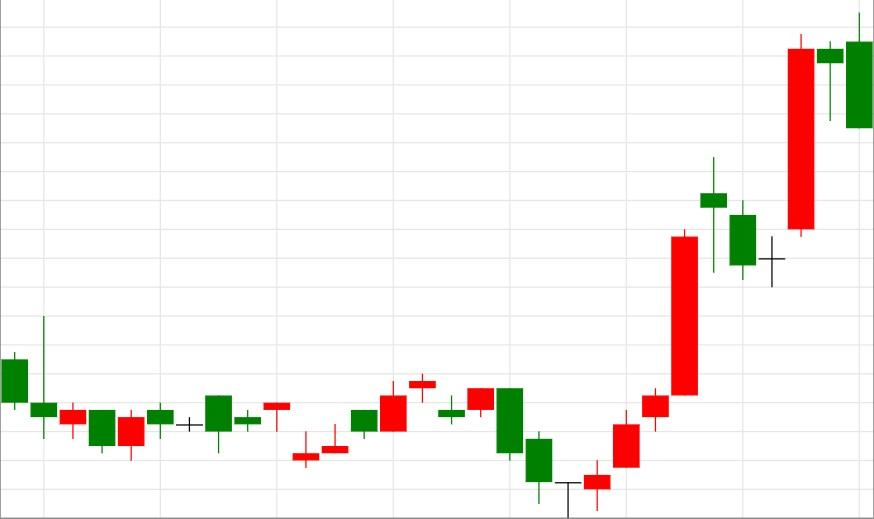three_white_soldiers_rise: (466, 388, 670, 519)
